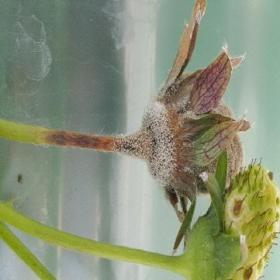Gray Mold: (93, 0, 253, 228)
